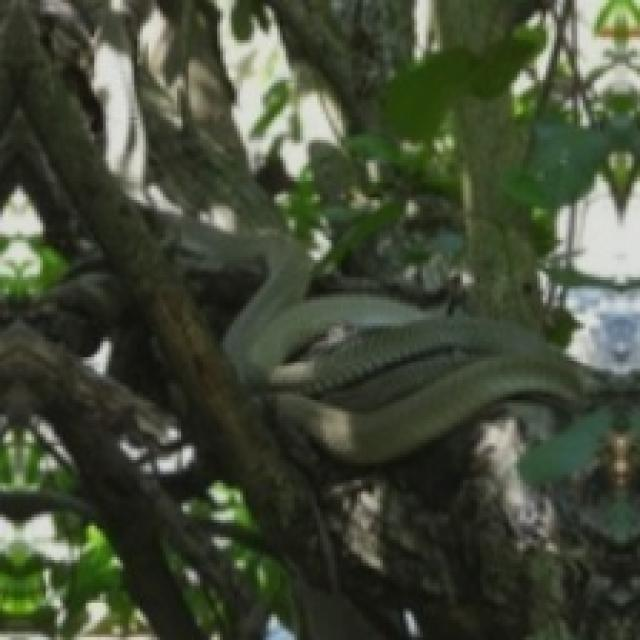king cobra: (148, 124, 581, 464)
